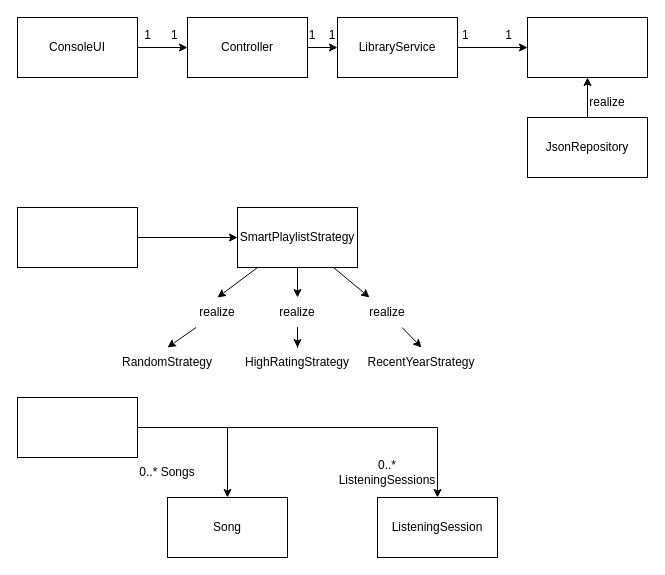
The diagram is 665 pixels wide and 575 high, and some of its shapes have lost their labels. Here are the shapes that lost their labels. From the top down, the box of each, then its label:
(526, 16, 648, 78): Repository
(16, 206, 138, 268): PlaylistService
(16, 396, 138, 458): DataSnapshot
